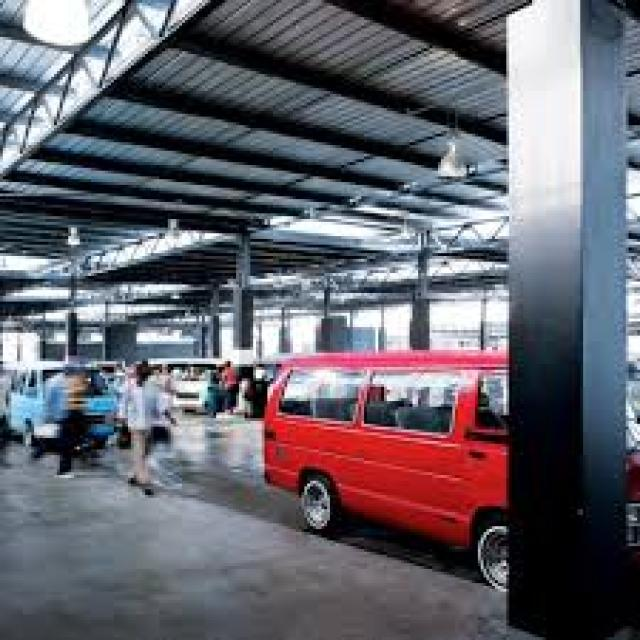MiniBus taxi: (253, 353, 526, 583)
